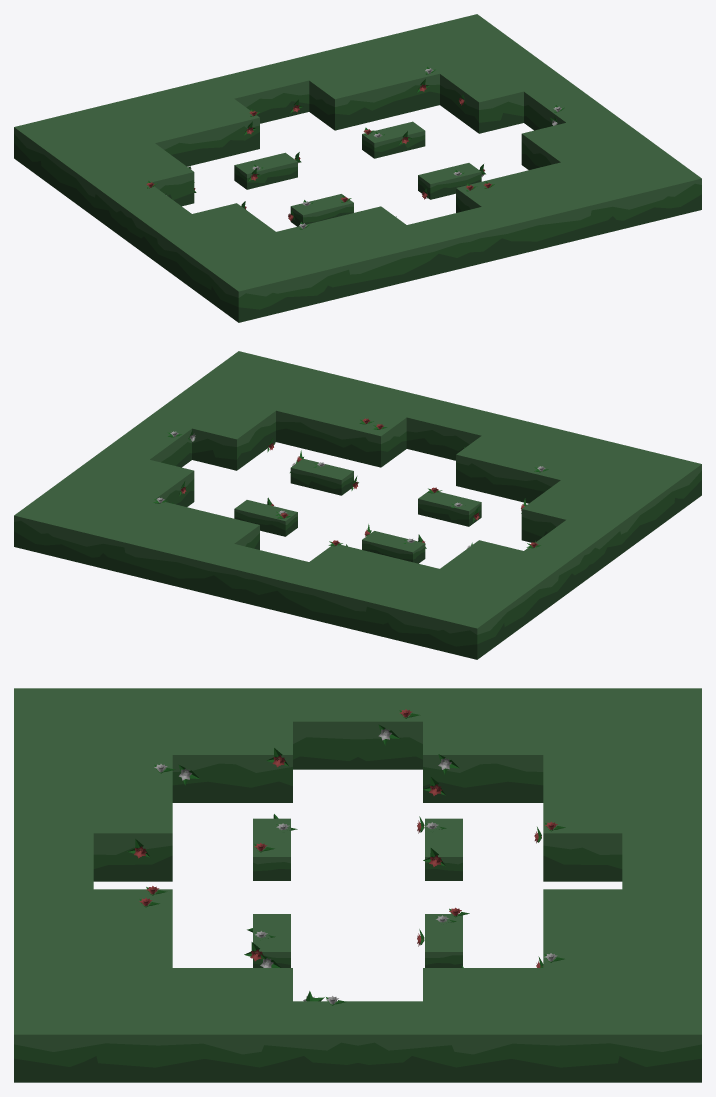
Rendered from Dest_Garden_Wall.FBX.
3 views of the same model, one above another, from view 1: azimuth 30°, elevation 25°; view 2: azimuth 150°, elevation 25°; view 3: azimuth 270°, elevation 25° (orthographic). The views are drawn at different scales.
Parts seen in each view (by area): view 1: Box001; view 2: Box001; view 3: Box001.
Boxes of the visible parts, x1,y1,x2,y2 form: Box001: (14,14,701,322); Box001: (14,351,701,659); Box001: (14,688,701,1082).
Bounding box in the file's own units: 309 × 25.32 × 260.
